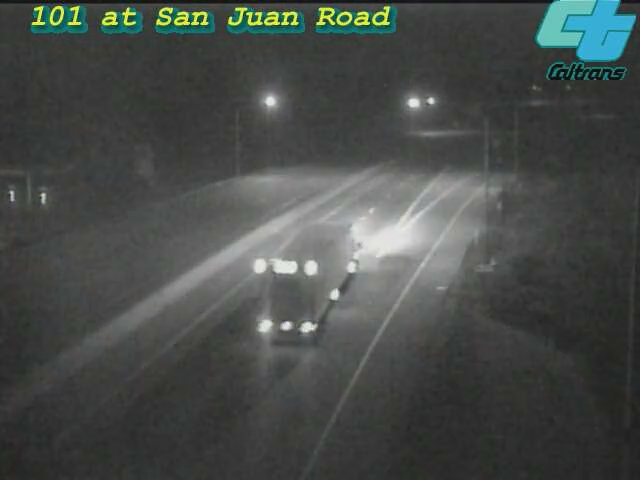vehicle: (263, 246, 343, 326)
